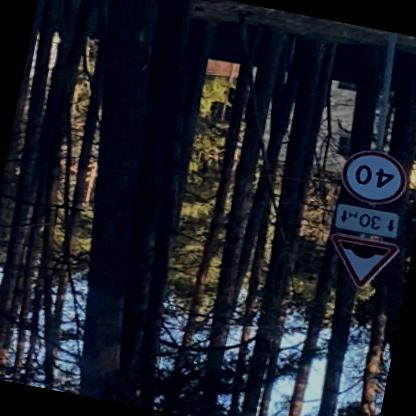speedlimit: (338, 146, 414, 211)
